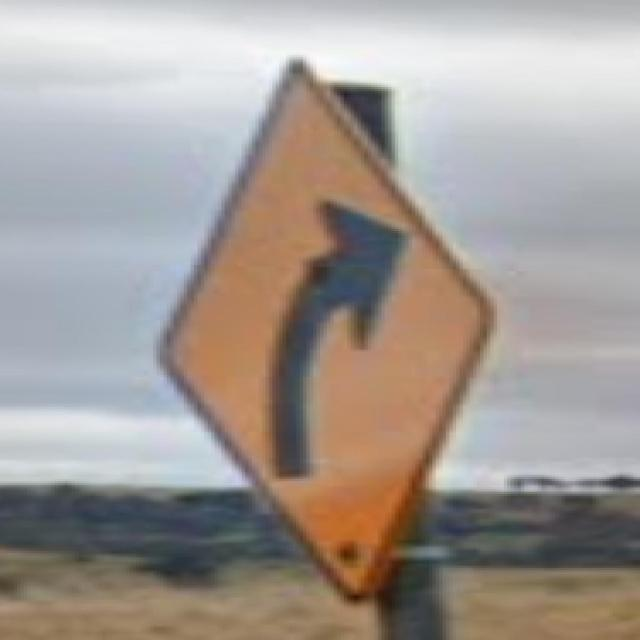Tikungan Ke Kanan: (140, 49, 500, 602)
